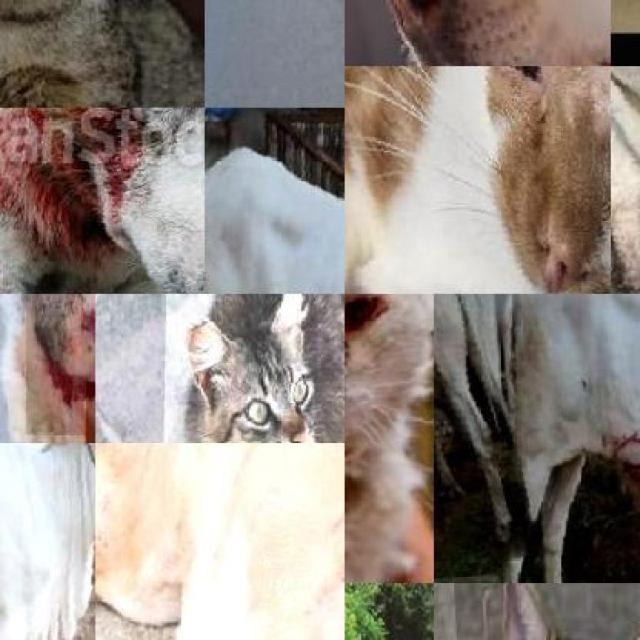cat: (344, 66, 610, 294), (158, 294, 344, 443), (344, 294, 434, 583), (0, 0, 205, 108), (0, 294, 95, 443)
cow: (477, 294, 640, 583), (204, 108, 344, 294), (434, 294, 524, 581)
dog: (96, 443, 344, 640), (0, 108, 205, 294), (344, 0, 610, 66)
injured: (22, 108, 166, 258), (24, 326, 96, 436), (501, 66, 594, 149), (23, 294, 95, 366)
